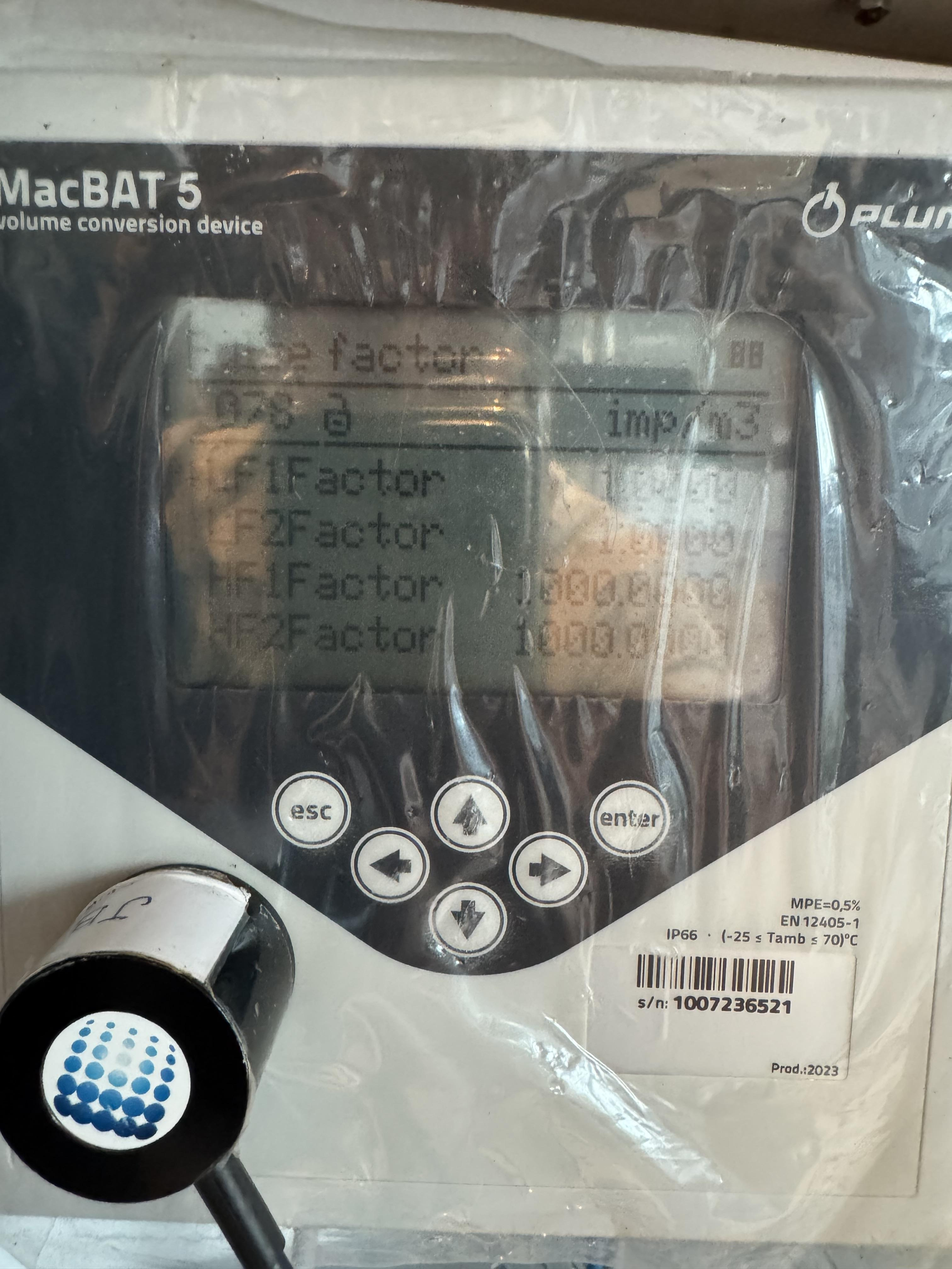digital_screen: (152, 296, 802, 701)
